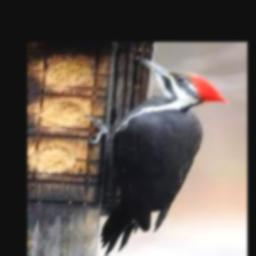Woodpecker: (88, 56, 229, 255)
